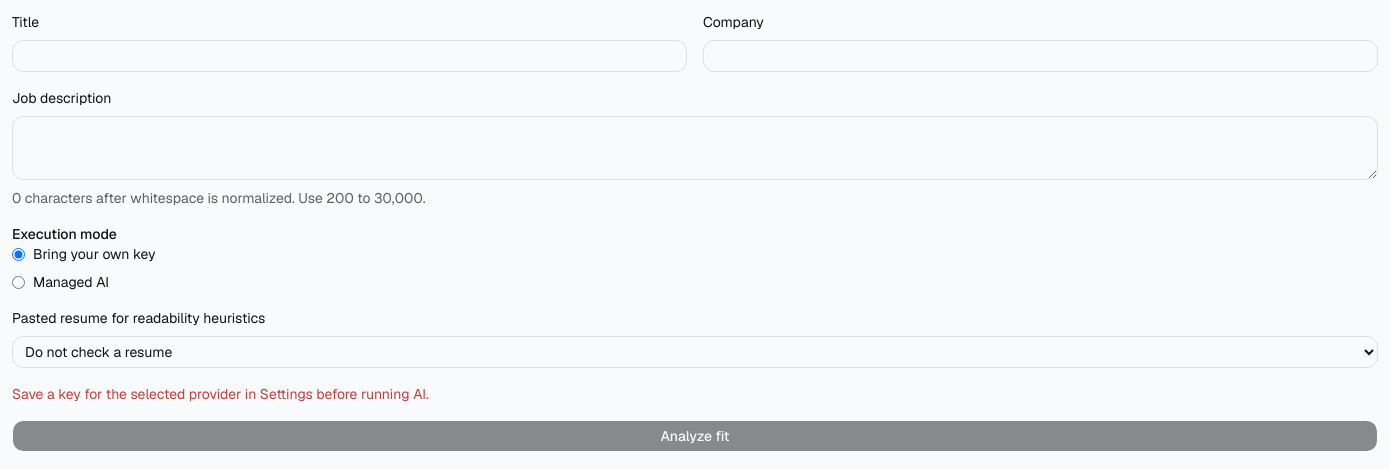
Test: analyze form › keeps the job description editable with a missing key and disables only Analyze
Click the text box labelled "Job description" at (695, 148), box [12,116,1378,180]
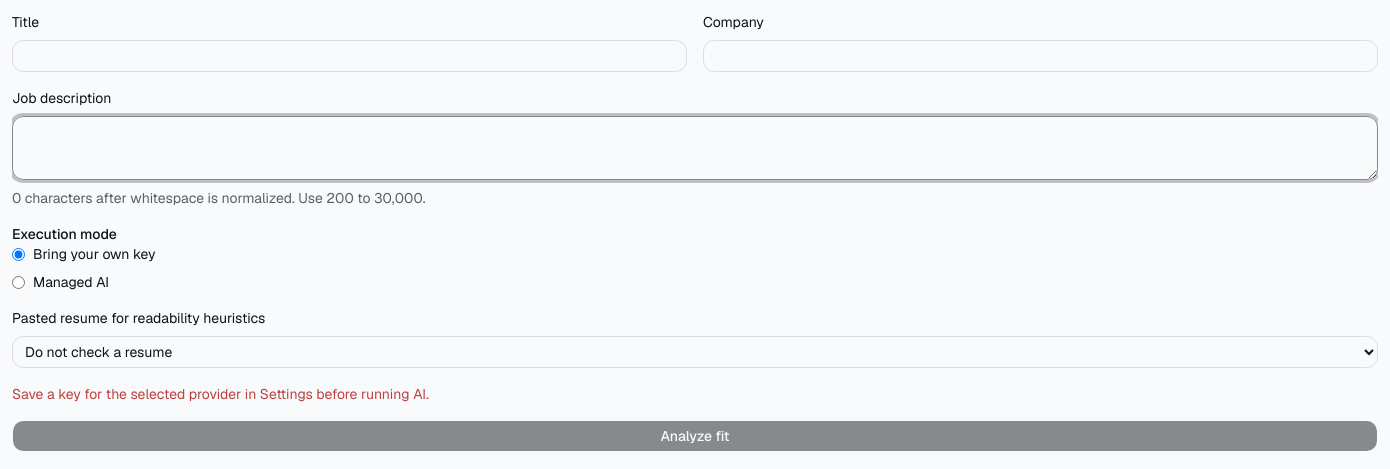
Type keys "Required: TypeScript"
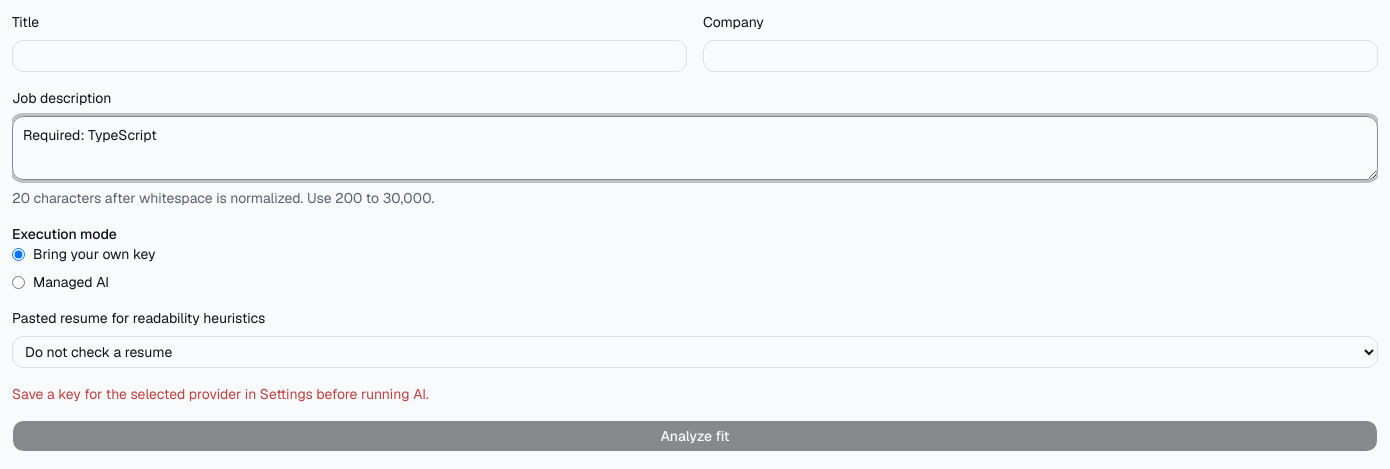
Expected: the message reads "Save a key for the selected provider in Settings before running AI.", [12,385,429,403]
Expected: the text box labelled "Job description" holds "Required: TypeScript", [12,116,1378,180]
